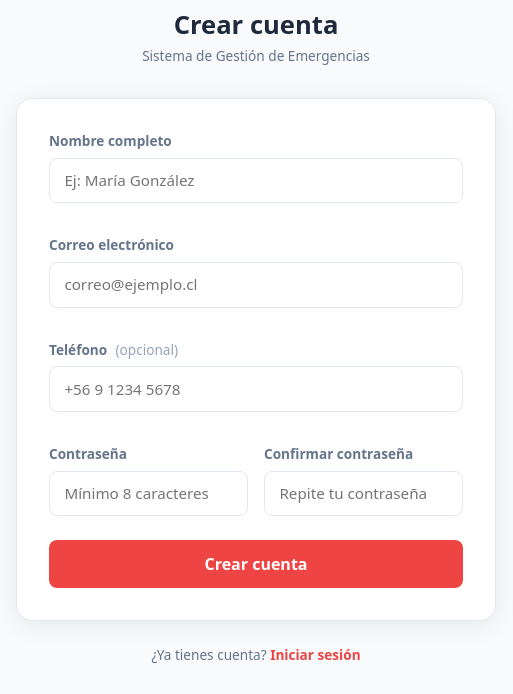
it: Registro — validaciones › muestra error si el email es invalido
Type "MatiDroid" into the field labelled "Nombre completo" at (256, 180), box [49,158,463,203]
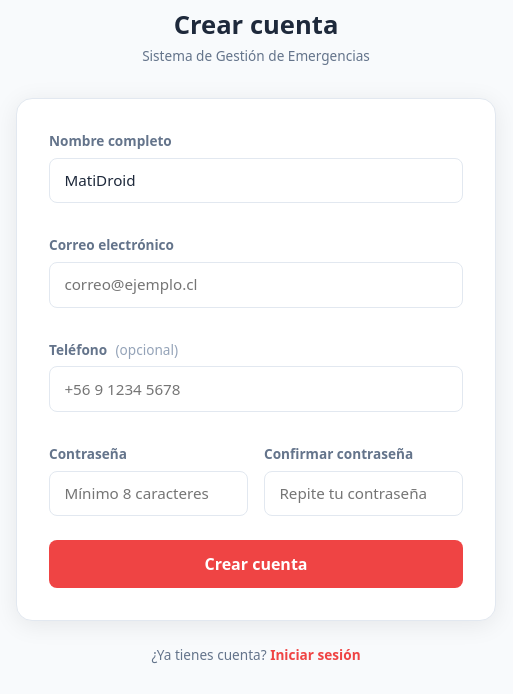
Type "no-es-email" into the field labelled "Correo electrónico" at (256, 285), box [49,262,463,308]
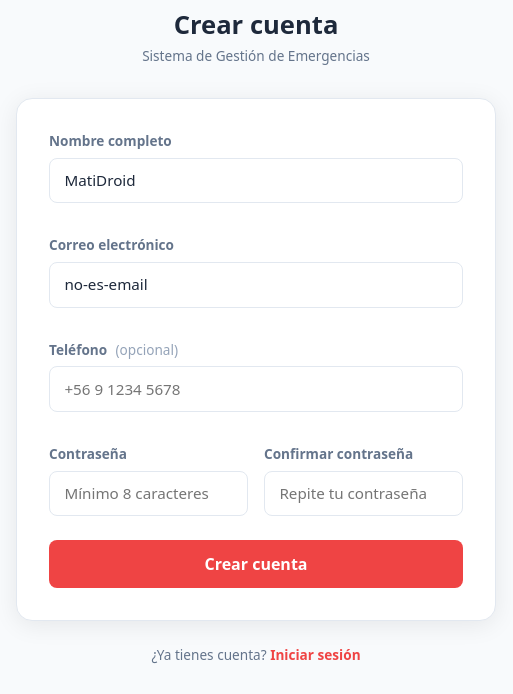
Click the button "Crear cuenta" at (256, 564), box [49,540,463,588]
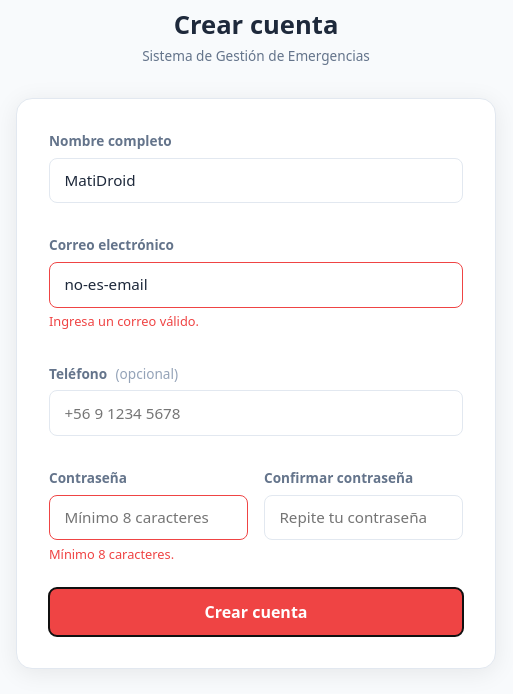
Check: the text "Ingresa un correo válido." is shown, box [49,312,199,330]
